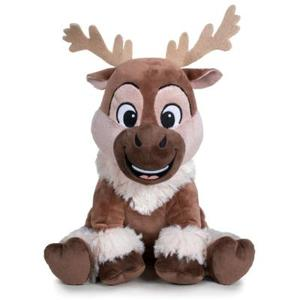sven: (56, 5, 260, 60)
